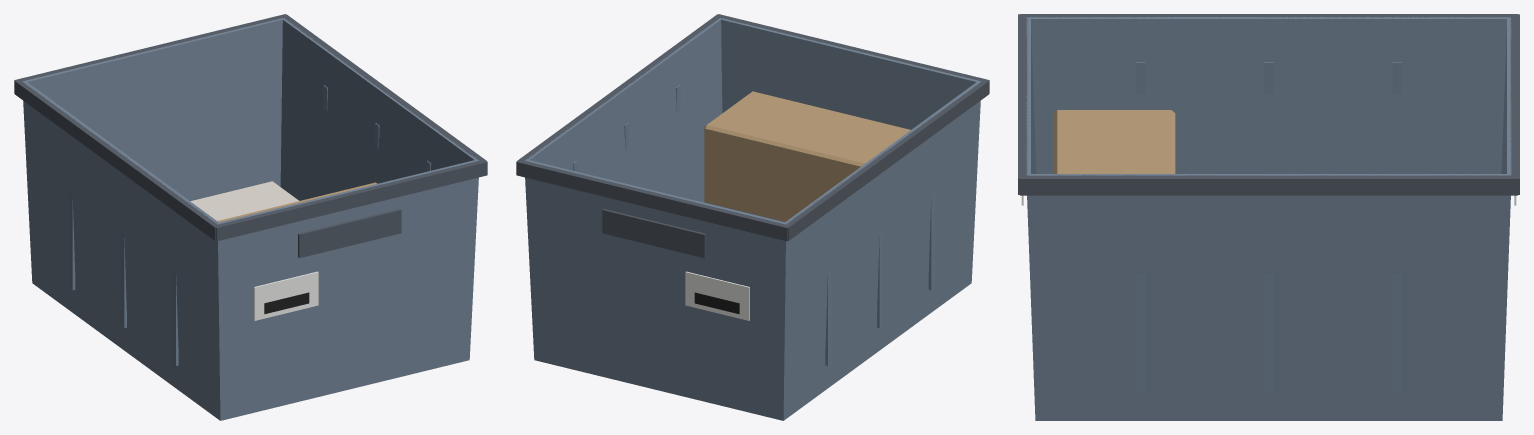
The model's file is airrob_tote_v1.fbx.
The picture shows the model from 3 angles, left to right: view 1: azimuth 30°, elevation 25°; view 2: azimuth 150°, elevation 25°; view 3: azimuth 270°, elevation 25°; orthographic projection. The views are drawn at different scales.
Visible parts, largest first — view 1: AirRobTote_v1; view 2: AirRobTote_v1; view 3: AirRobTote_v1.
Part boxes in pixels (x1,y1,x2,y2): AirRobTote_v1: (14,14,487,420); AirRobTote_v1: (516,14,989,420); AirRobTote_v1: (1018,14,1519,420).
Size of the model in its own units: 0.426 by 0.3 by 0.548.
